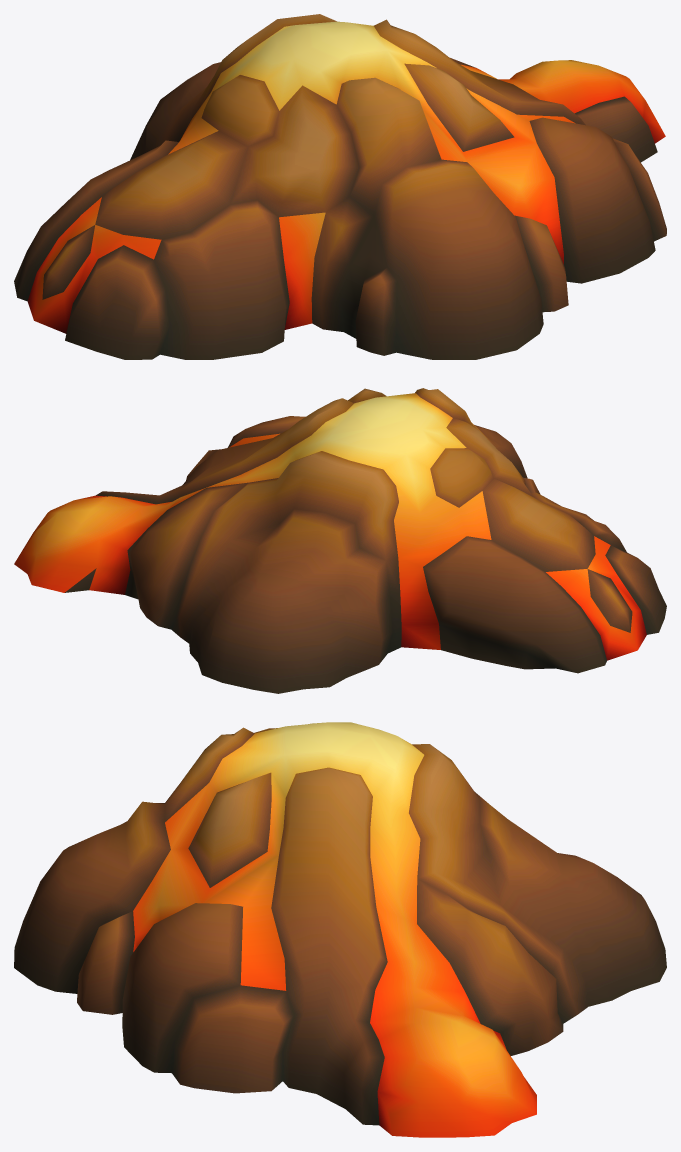
The model's file is m_Rock06_B.fbx.
The picture shows the model from 3 angles, top to bottom: view 1: azimuth 30°, elevation 25°; view 2: azimuth 150°, elevation 25°; view 3: azimuth 270°, elevation 25°; orthographic projection. The views are drawn at different scales.
Parts seen in each view (by area): view 1: m_Rock06_B; view 2: m_Rock06_B; view 3: m_Rock06_B.
Boxes of the visible parts, left/top/right/bottom form: m_Rock06_B: left=14, top=14, right=666, bottom=359; m_Rock06_B: left=14, top=388, right=666, bottom=693; m_Rock06_B: left=14, top=722, right=666, bottom=1137.
Size of the model in its own units: 1419 by 432 by 1158.
